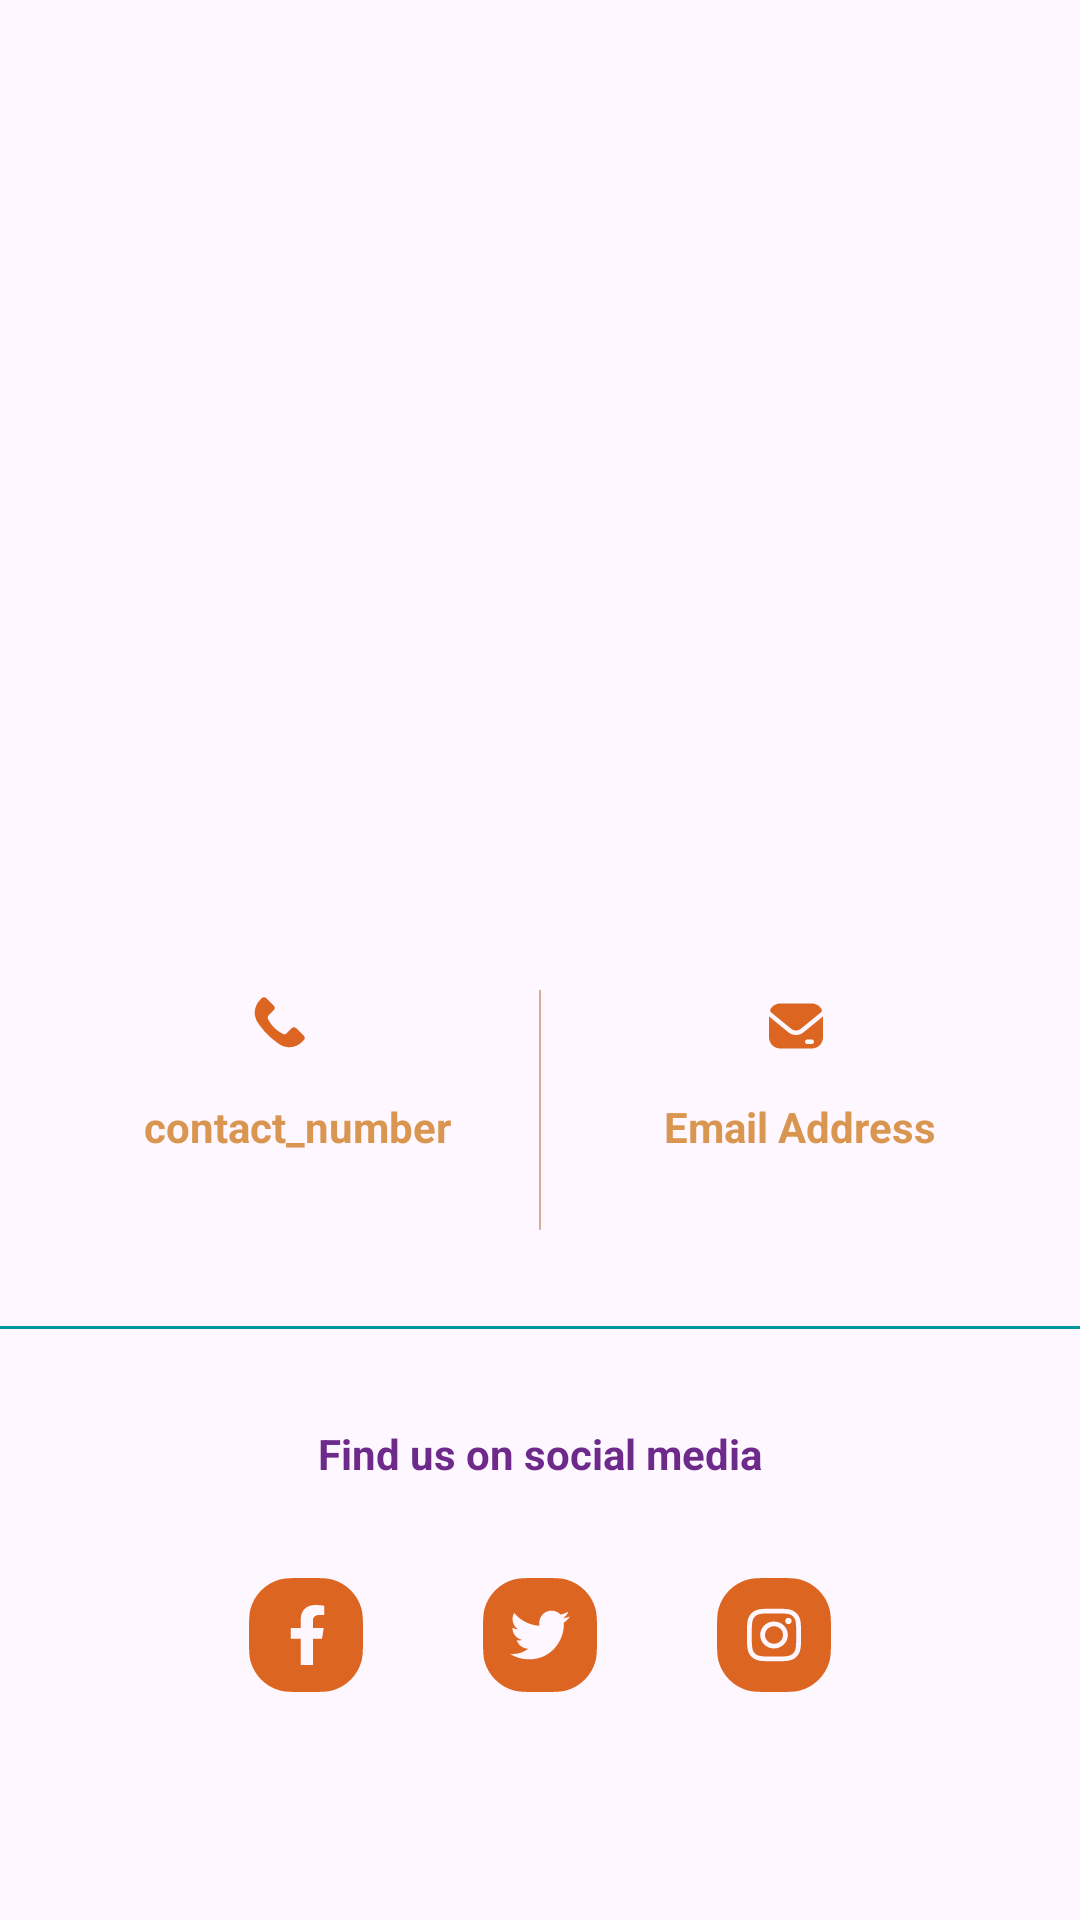

Icon click points for this 1080x1920 phone screenshot, format (x,y):
message: (796,1026)
